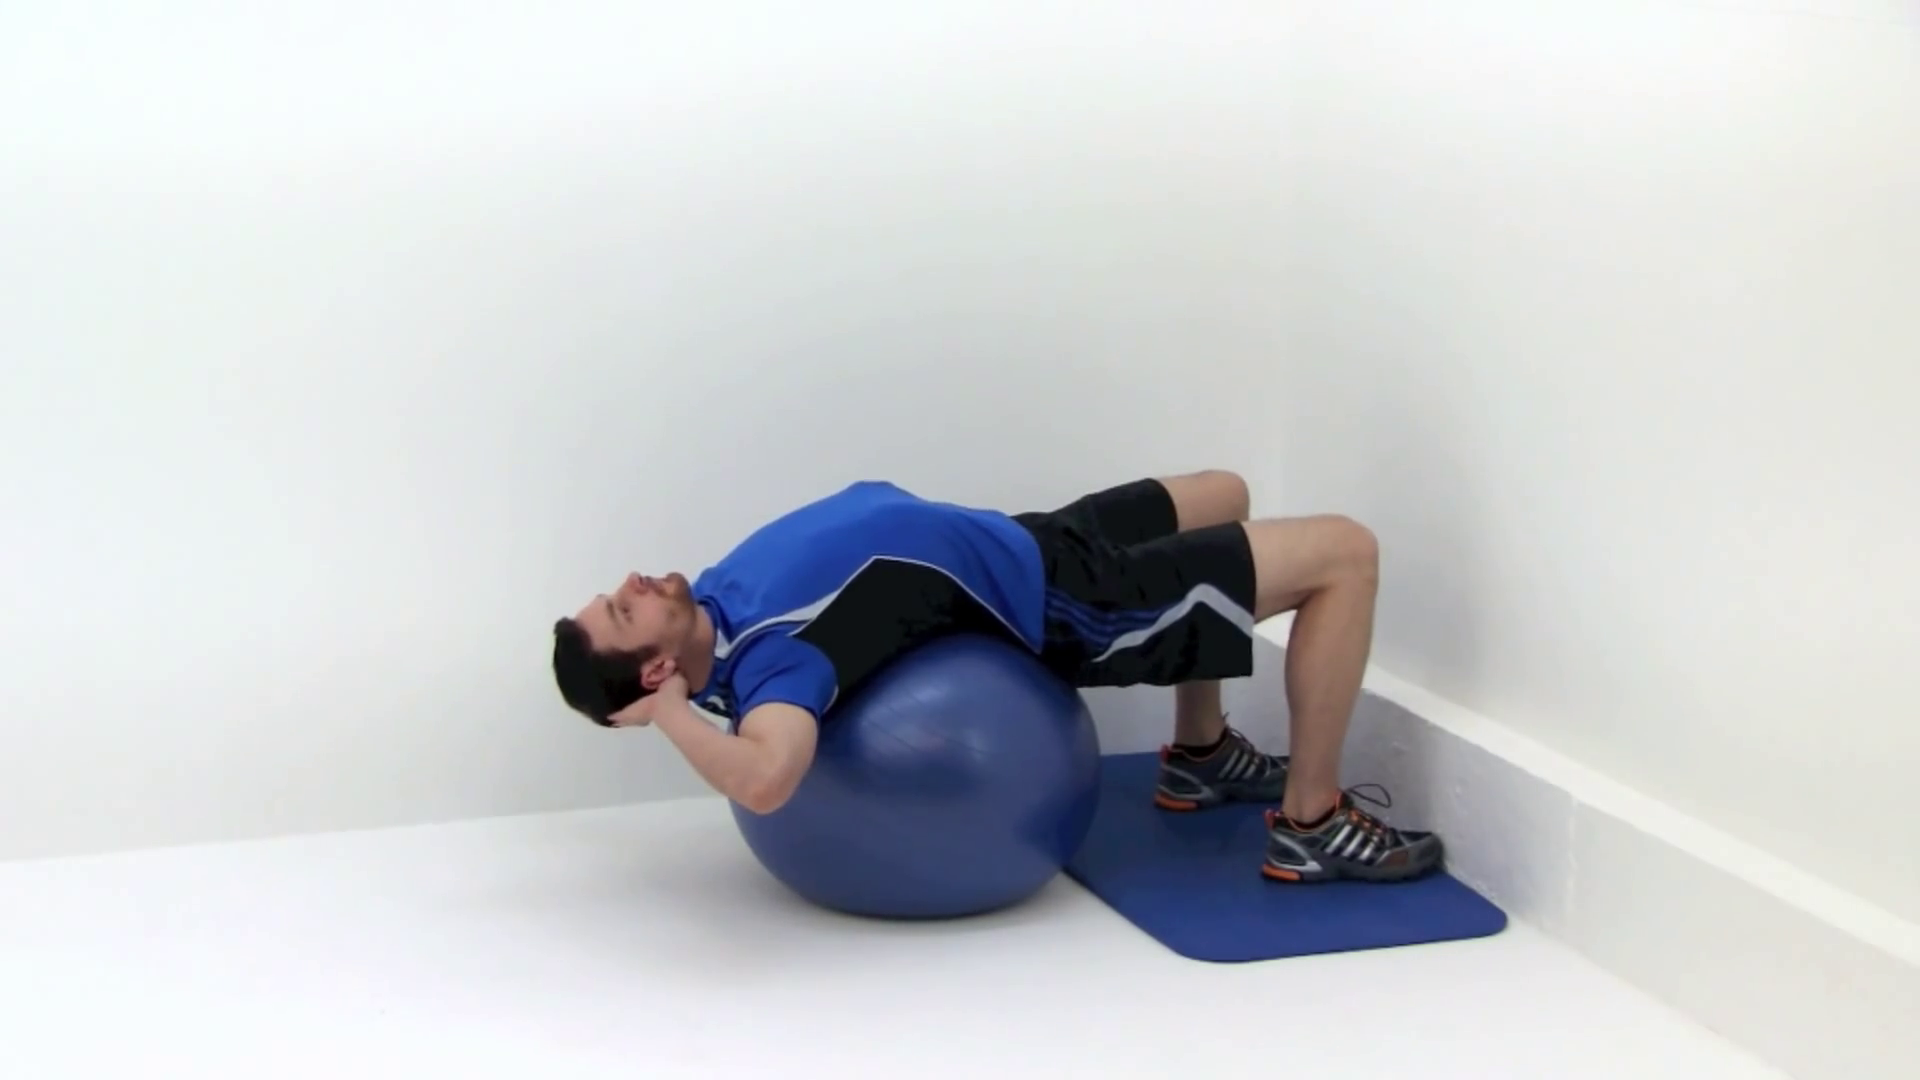yogaball: (698, 651, 1120, 932)
